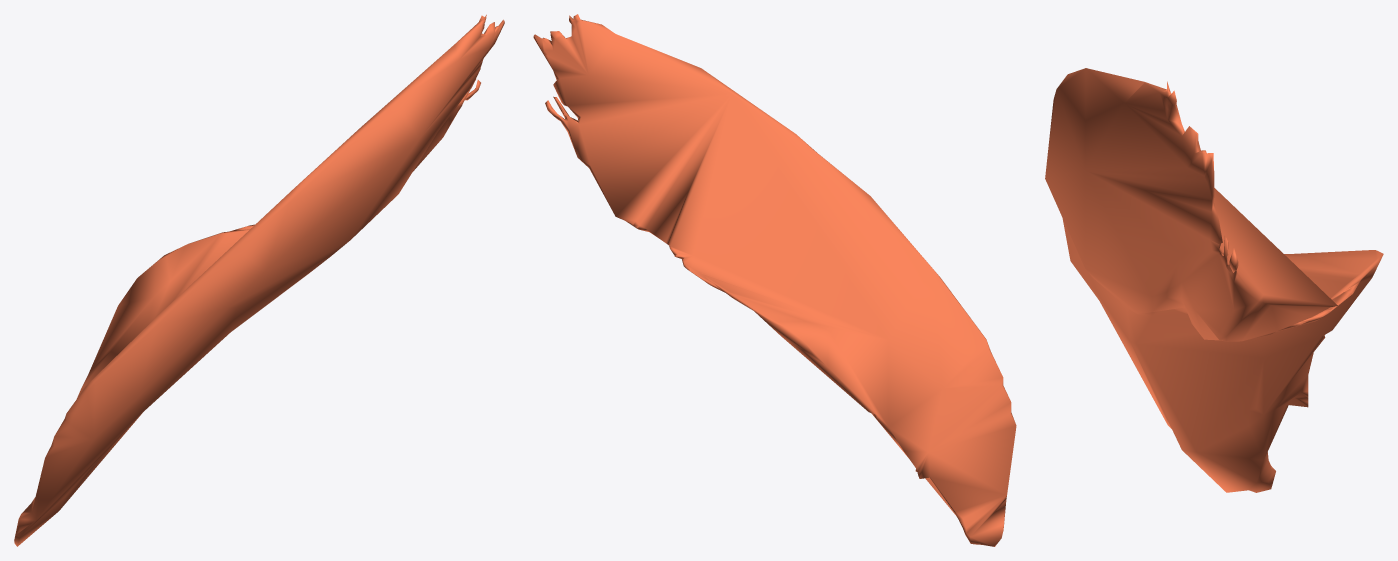
The model's file is Corrugator_supercilii.l_Generated_Mesh_From_X3D.992.glb.
3 renders of one model, left to right at view 1: azimuth 30°, elevation 25°; view 2: azimuth 150°, elevation 25°; view 3: azimuth 270°, elevation 25°, orthographic. The views are drawn at different scales.
Parts seen in each view (by area): view 1: Corrugator_supercilii.l_Generated_Mesh_From_X3D.992; view 2: Corrugator_supercilii.l_Generated_Mesh_From_X3D.992; view 3: Corrugator_supercilii.l_Generated_Mesh_From_X3D.992.
Part boxes in pixels (x1,y1,x2,y2): Corrugator_supercilii.l_Generated_Mesh_From_X3D.992: [14, 14, 504, 546]; Corrugator_supercilii.l_Generated_Mesh_From_X3D.992: [533, 14, 1016, 546]; Corrugator_supercilii.l_Generated_Mesh_From_X3D.992: [1045, 68, 1383, 492].
Bounding box in the file's own units: 0.0226 × 0.0191 × 0.00705.
